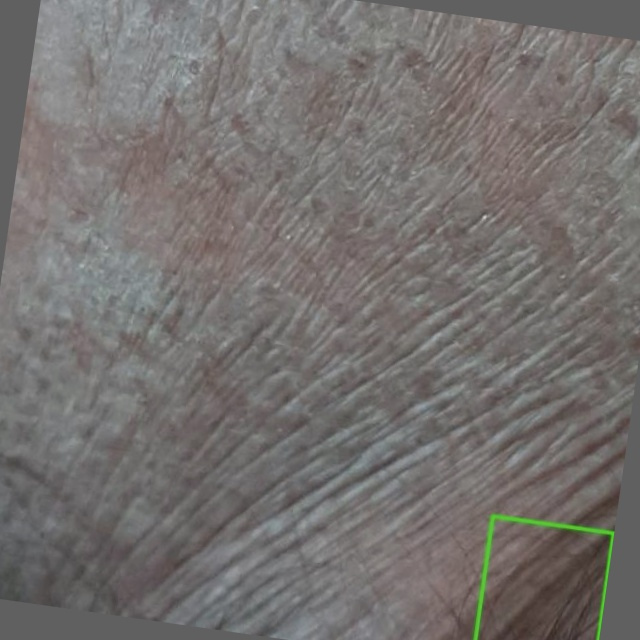Tinea Corporis: (475, 515, 613, 639)
